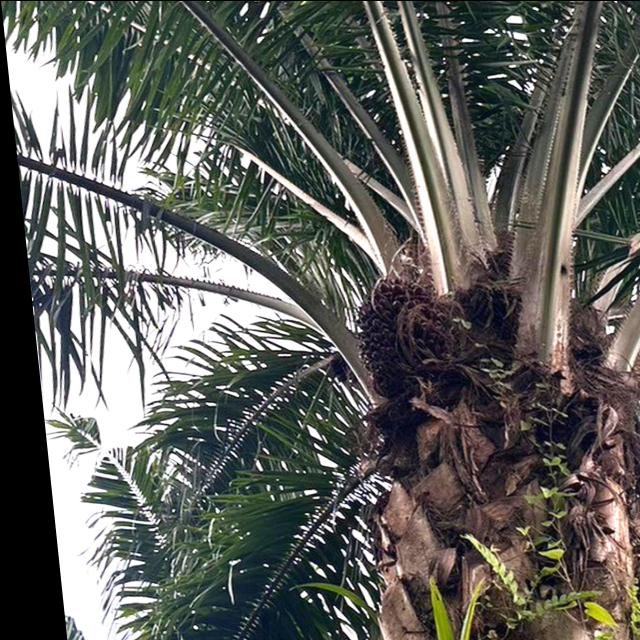ripe: (331, 258, 467, 397)
